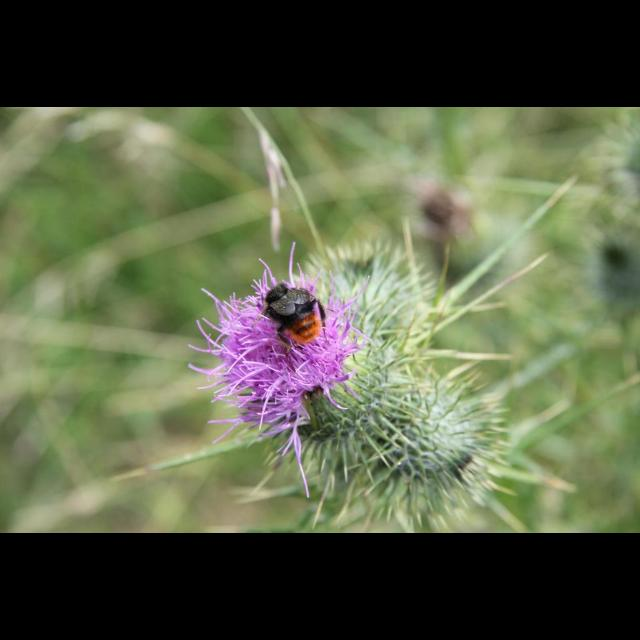Flower: (188, 256, 366, 449)
